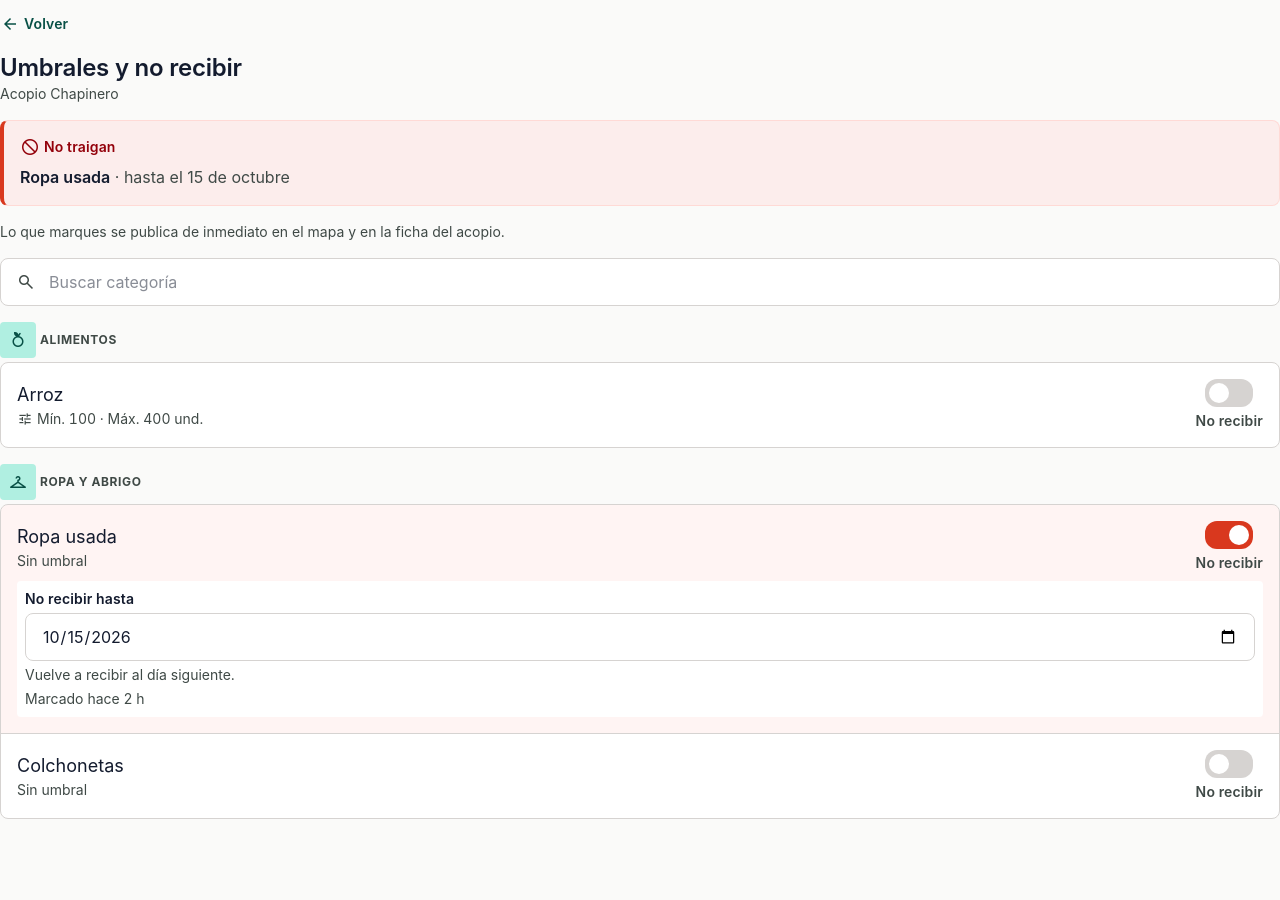
Scenario: C7 Umbrales › con el mínimo sobre el máximo avisa y no deja guardar
Click the button "Colchonetas Sin umbral" at (70, 766), box x1=17 y1=752 x2=1188 y2=800
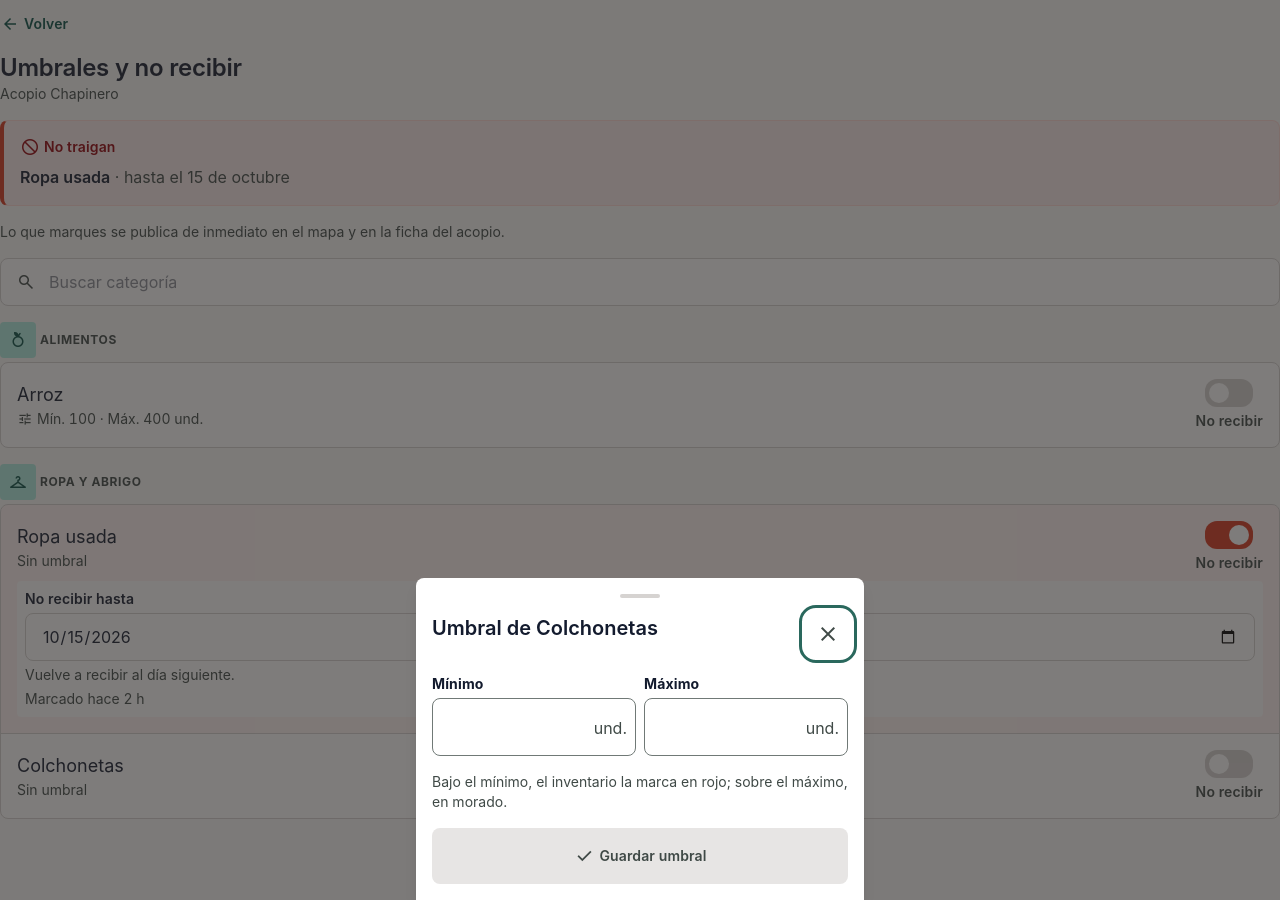
Type "60" into the field labelled "Mínimo" at (515, 727), box x1=441 y1=699 x2=590 y2=755
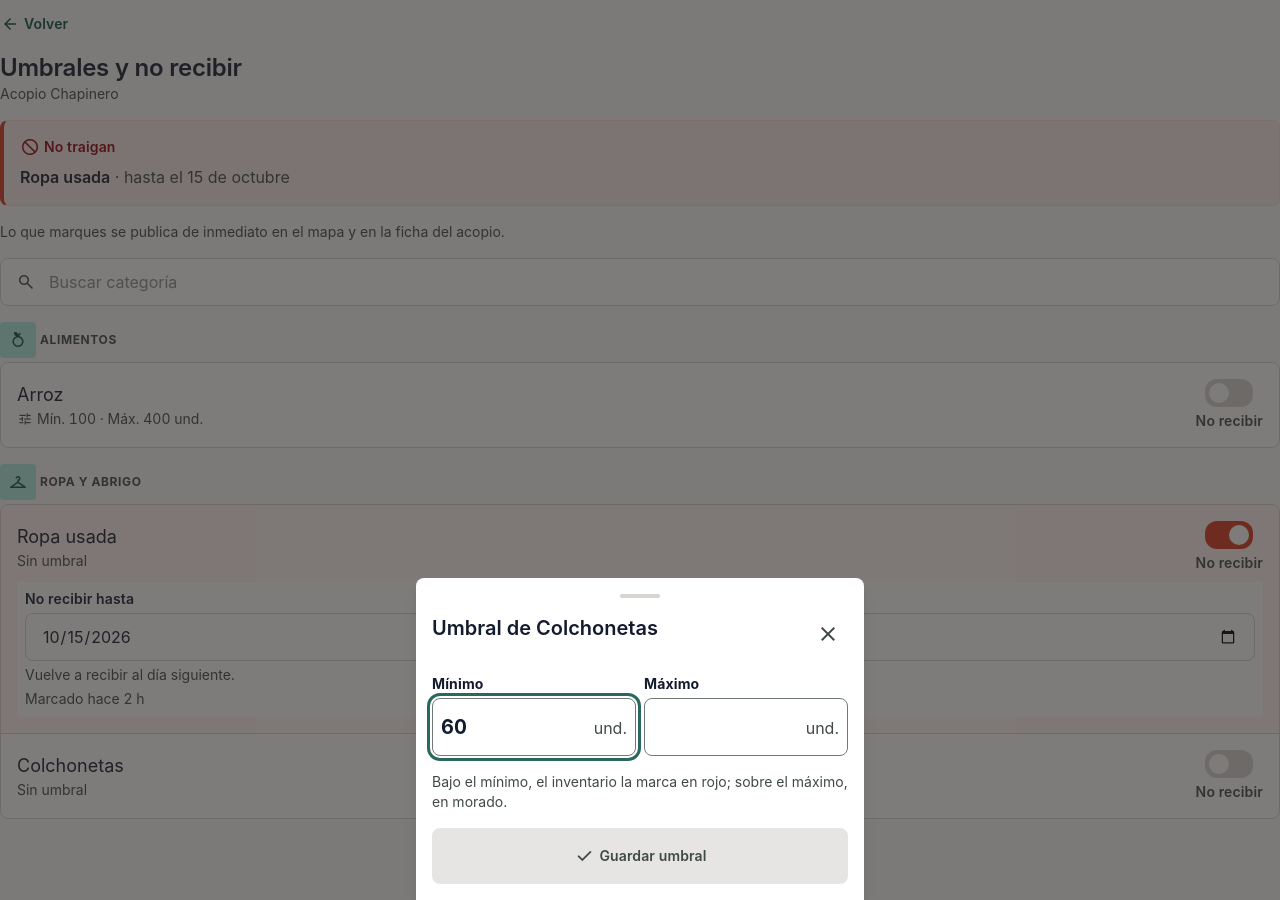
Type "50" into the field labelled "Máximo" at (727, 727), box x1=653 y1=699 x2=802 y2=755
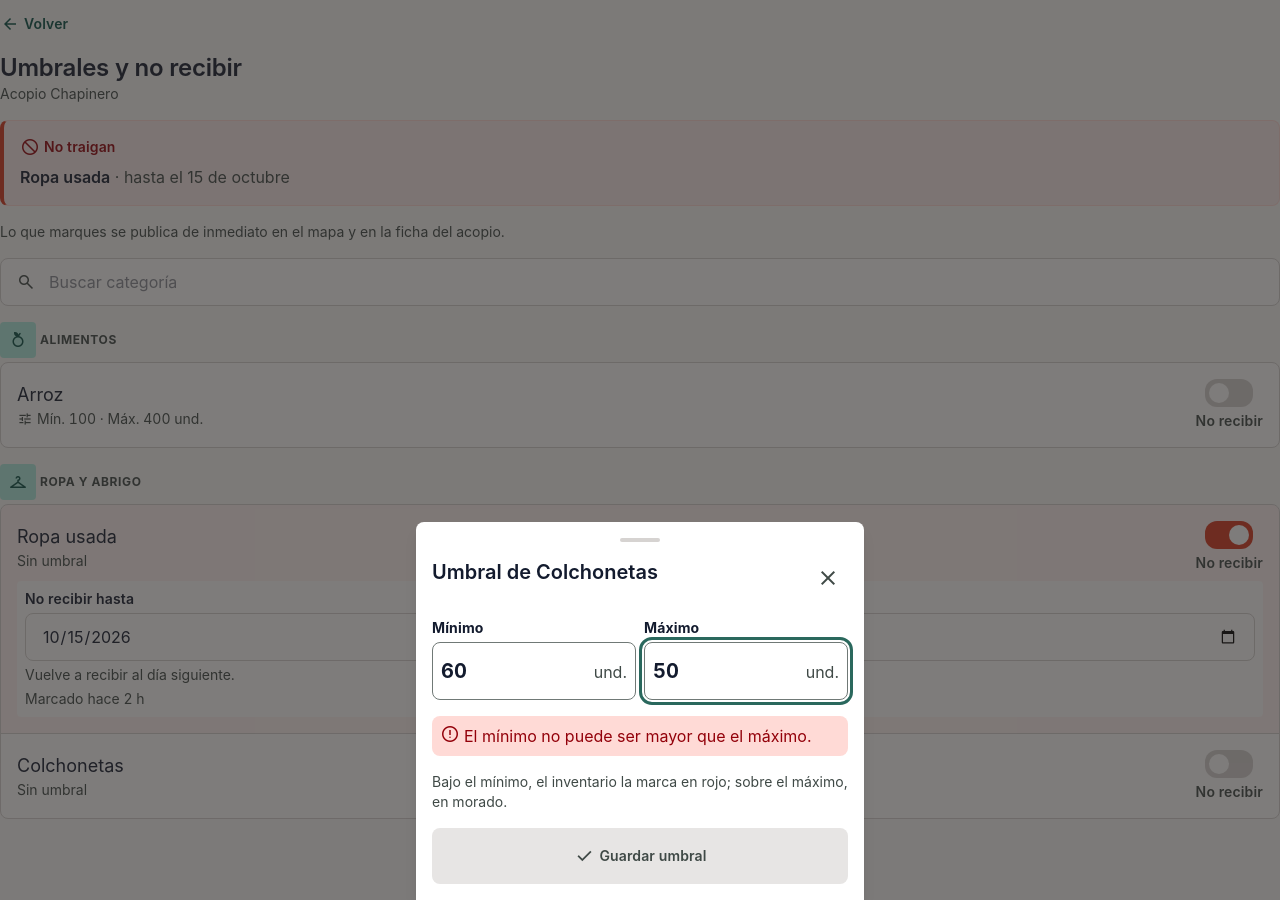
Result: the button "Guardar umbral" is disabled at x1=432 y1=828 x2=848 y2=884
Result: the message reads "El mínimo no puede ser mayor que el máximo." at x1=464 y1=726 x2=812 y2=746
